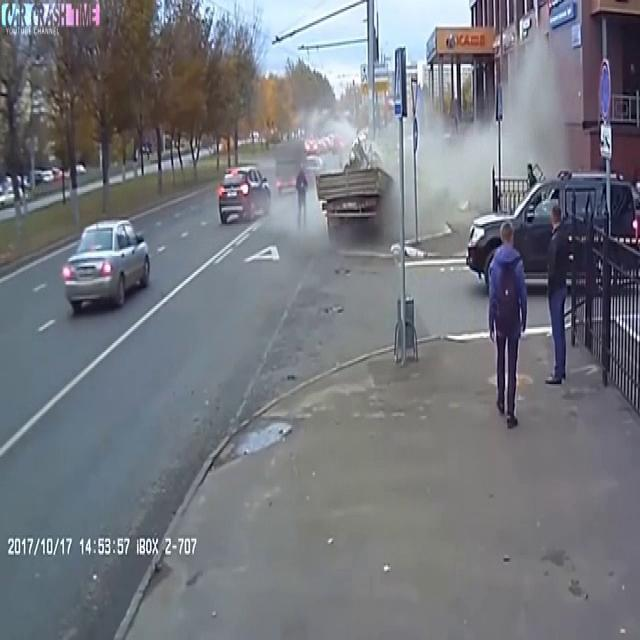accident: (310, 102, 420, 254)
